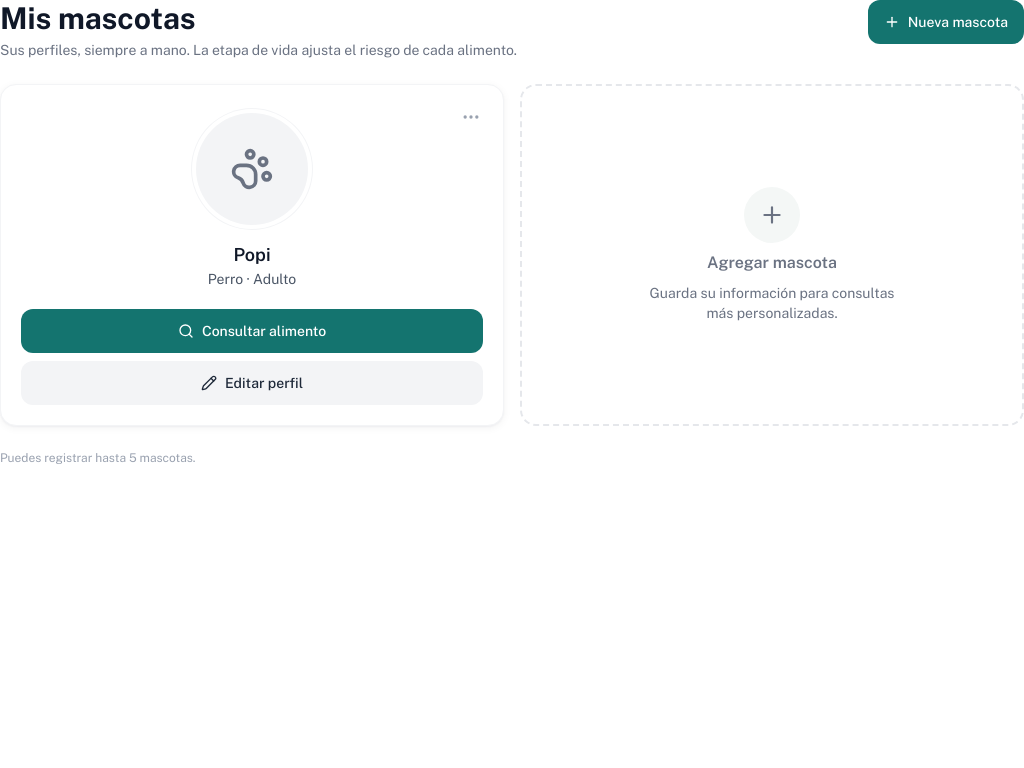
it: PetsPage › does not delete when the owner cancels
The image size is (1024, 768).
Click the button named "Más opciones para Popi" at (471, 117), box x1=451 y1=97 x2=491 y2=137
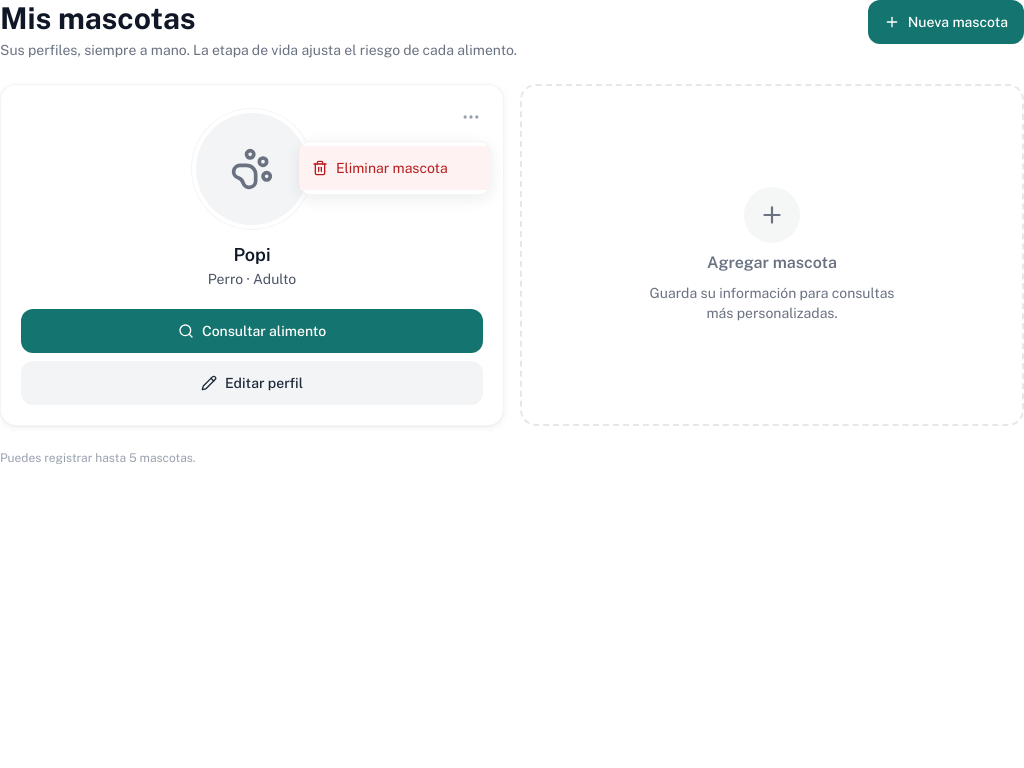
Click the menu item "Eliminar mascota" at (395, 168), box x1=300 y1=146 x2=490 y2=190
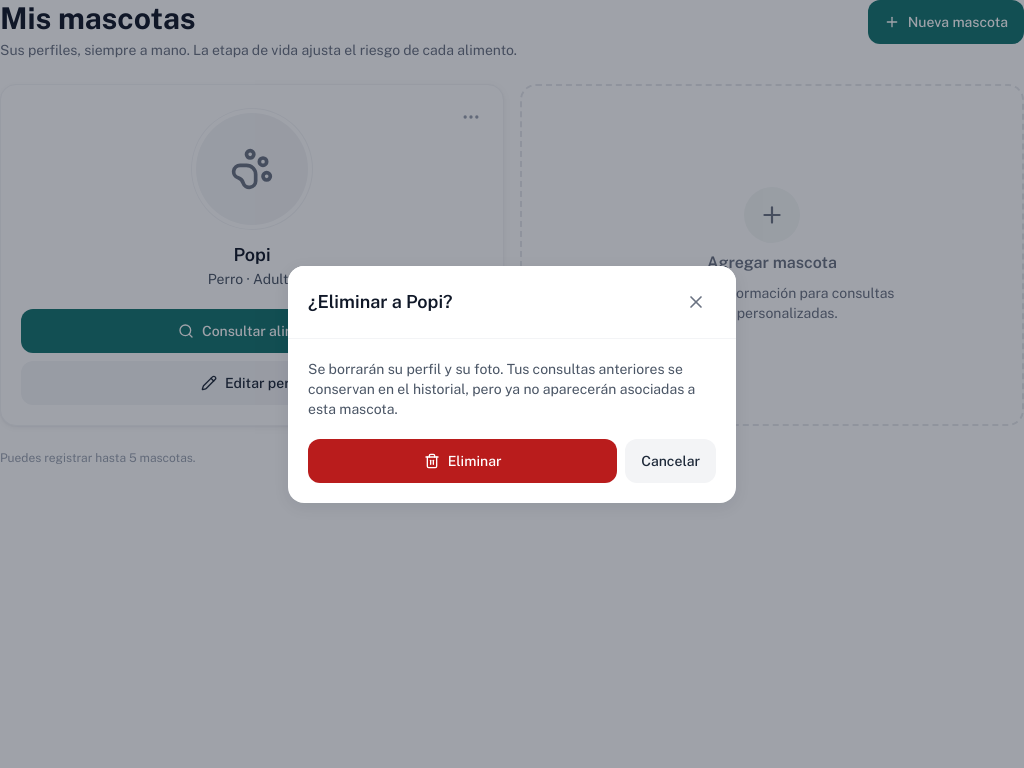
Click the button "Cancelar" at (671, 460), box x1=625 y1=438 x2=716 y2=482
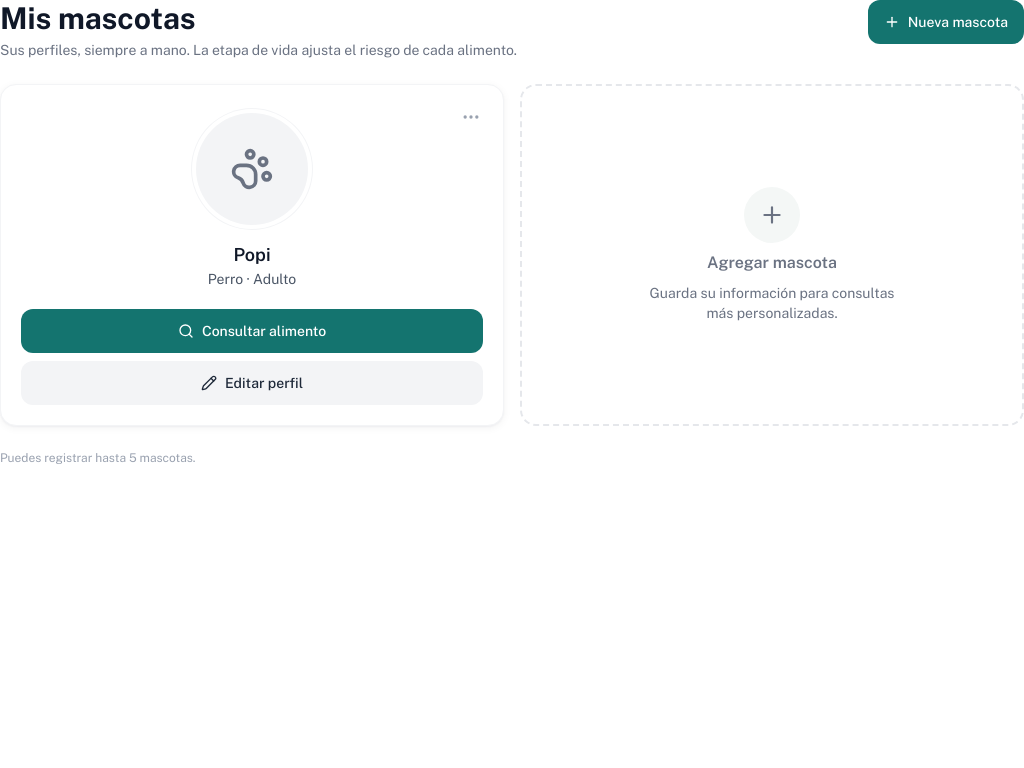
Check: the dialog is gone
